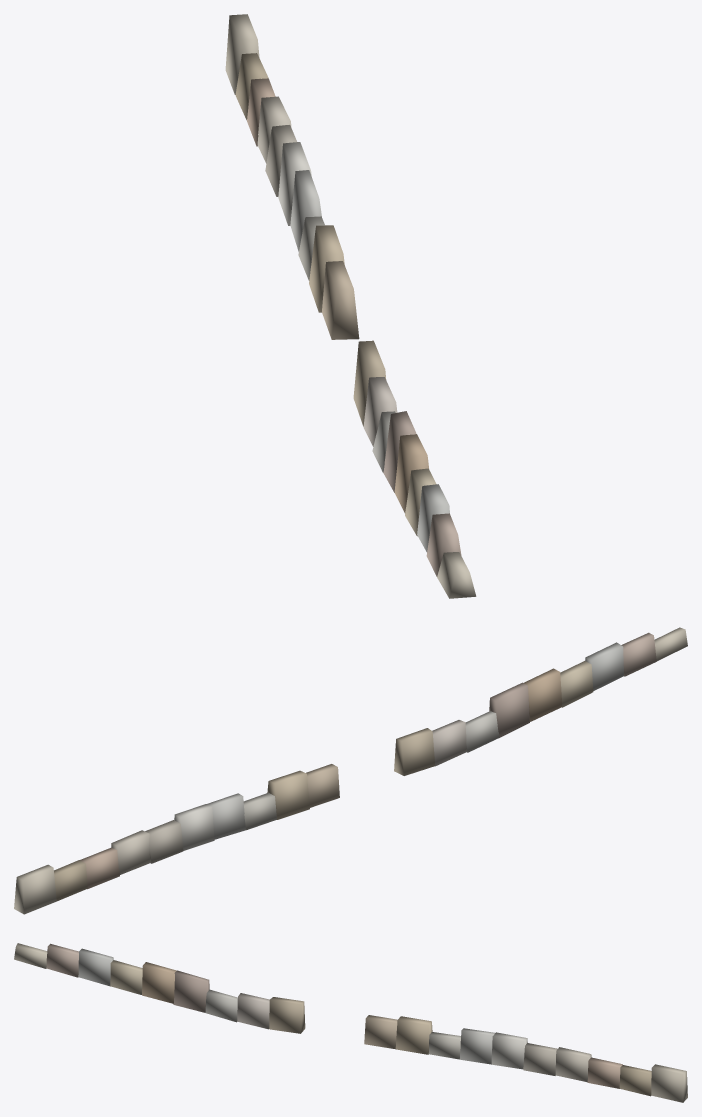
The model's file is farm_-34_-25_far.glb.
3 views of the same model, one above another, from view 1: azimuth 30°, elevation 25°; view 2: azimuth 150°, elevation 25°; view 3: azimuth 270°, elevation 25° (orthographic). The views are drawn at different scales.
Parts seen in each view (by area): view 1: geometry_0; view 2: geometry_0; view 3: geometry_0.
Boxes of the visible parts, box(x1,y1,x2,y2) form: geometry_0: box(225, 14, 476, 598); geometry_0: box(14, 627, 687, 914); geometry_0: box(14, 943, 687, 1102).
Bounding box in the file's own units: 12.63 × 2.71 × 31.58.
